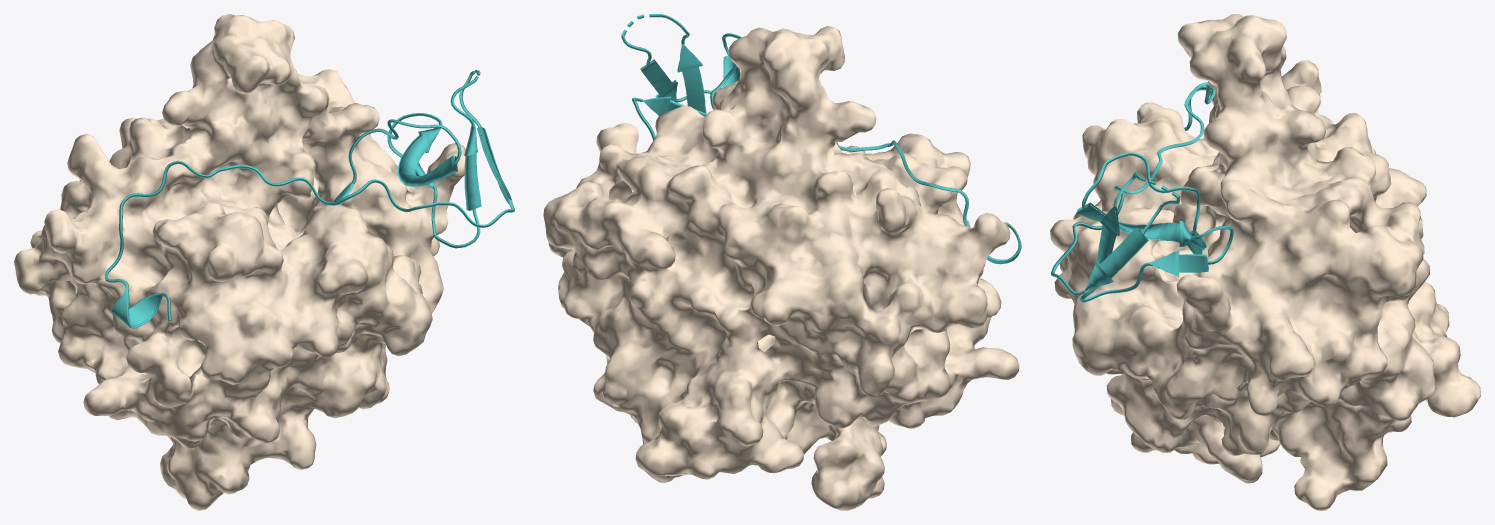
3 renders of one model, left to right at view 1: azimuth 30°, elevation 25°; view 2: azimuth 150°, elevation 25°; view 3: azimuth 270°, elevation 25°, orthographic. The views are drawn at different scales.
Visible parts, largest first — view 1: HT; view 2: HT; view 3: HT.
Boxes of the visible parts, <box> form: HT: <box>14,14,514,510</box>; HT: <box>543,14,1021,510</box>; HT: <box>1050,14,1480,510</box>.
Bounding box in the file's own units: 5.61 × 5.91 × 4.83.
